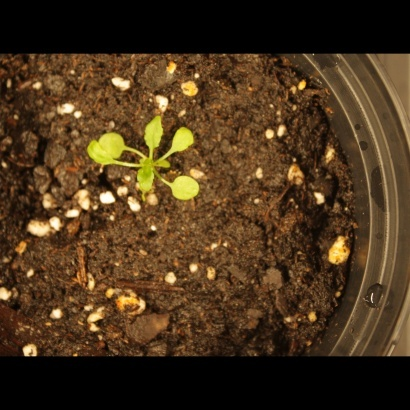leaf: (170, 174, 206, 210), (165, 124, 203, 155), (96, 131, 130, 160), (143, 112, 166, 150), (87, 141, 116, 170), (134, 166, 158, 195)
